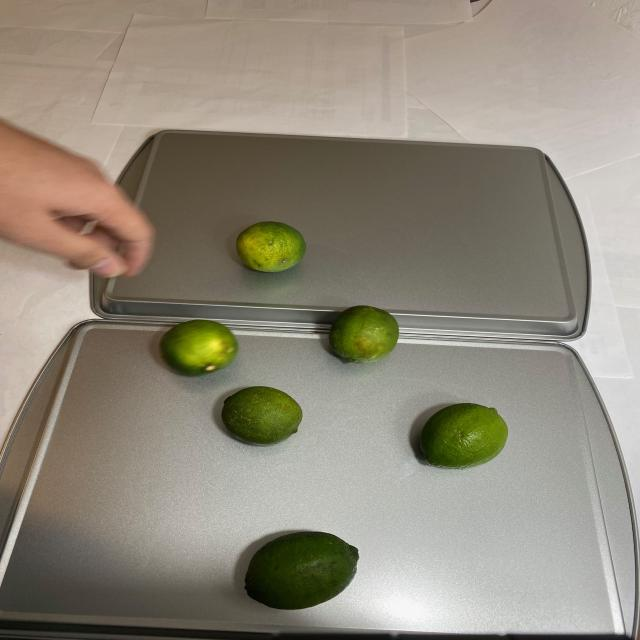lemon: (144, 299, 512, 608), (222, 215, 311, 274)
